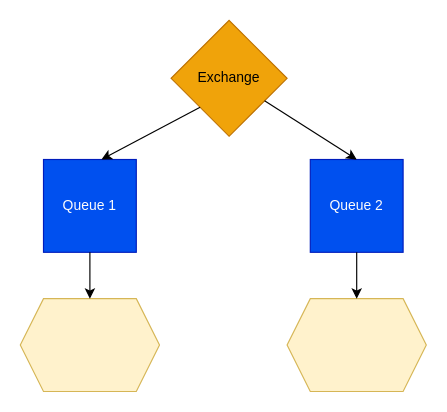
This 447x412 diagram has some shape labels left out. Each missing label, with the centre of its shape:
Consumer 1: pixel 89 345
Consumer 2: pixel 356 345
